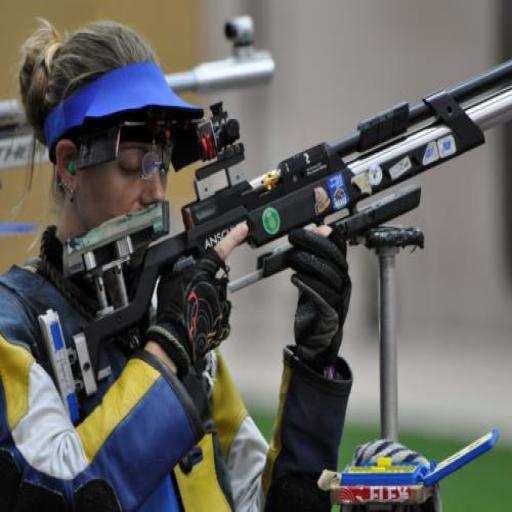shooting: (0, 17, 355, 510)
